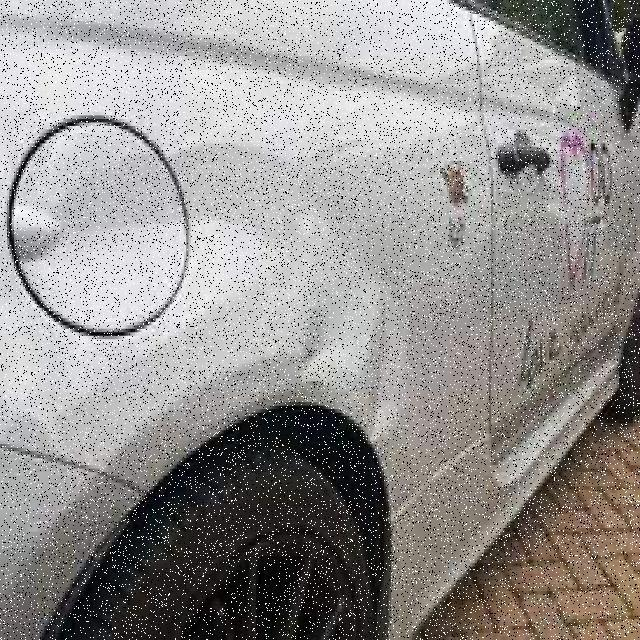quaterpanel-dent: (0, 0, 477, 483)
